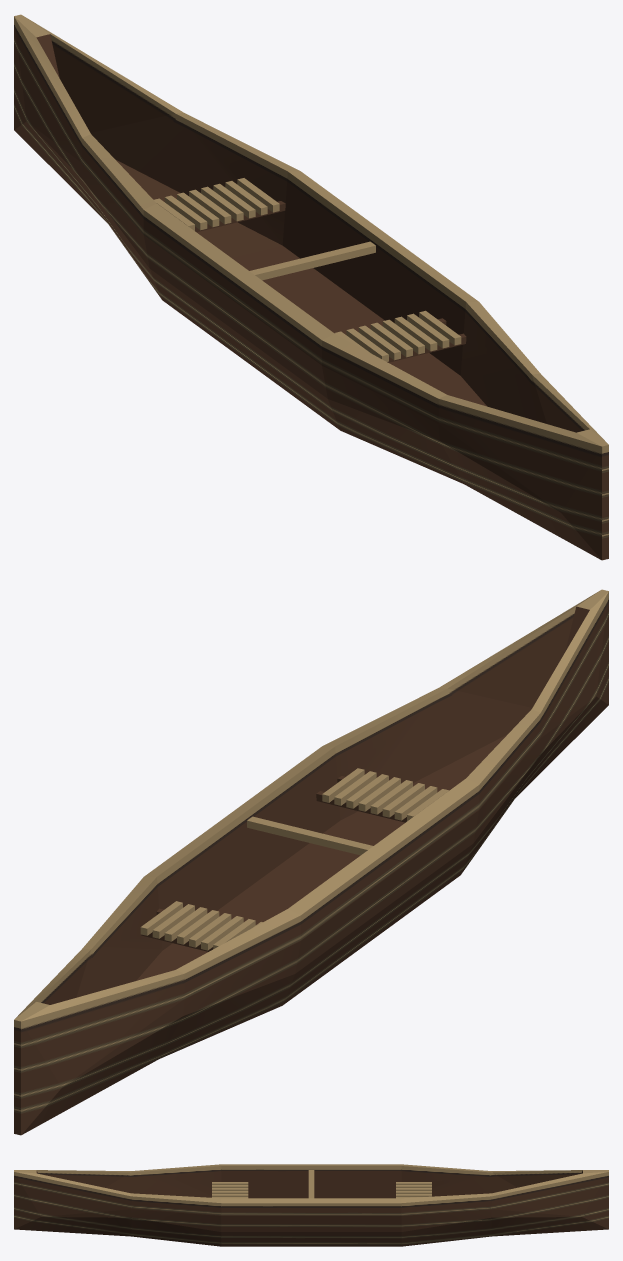
The picture shows the model from 3 angles, top to bottom: view 1: azimuth 30°, elevation 25°; view 2: azimuth 150°, elevation 25°; view 3: azimuth 270°, elevation 25°; orthographic projection. The views are drawn at different scales.
Visible parts, largest first — view 1: Canoe_2; view 2: Canoe_2; view 3: Canoe_2.
Boxes of the visible parts, x1,y1,x2,y2 form: Canoe_2: (14, 14, 608, 560); Canoe_2: (14, 589, 608, 1135); Canoe_2: (14, 1164, 608, 1246).
Size of the model in its own units: 130 by 95 by 842.
Materials: 1 (1 with a texture image).
